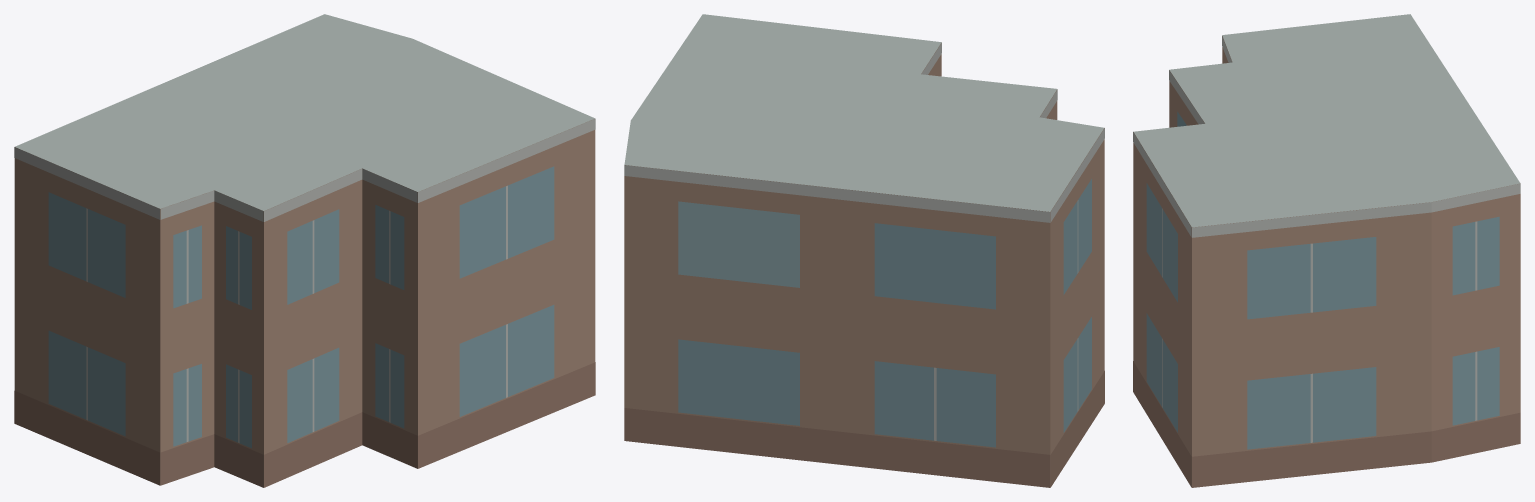
The model's file is survey-upis-32735699.glb.
3 renders of one model, left to right at view 1: azimuth 30°, elevation 25°; view 2: azimuth 150°, elevation 25°; view 3: azimuth 270°, elevation 25°, orthographic. The views are drawn at different scales.
Parts seen in each view (by area): view 1: survey-upis-32735699.tmp; view 2: survey-upis-32735699.tmp; view 3: survey-upis-32735699.tmp.
Boxes of the visible parts, bbox=[...] form: survey-upis-32735699.tmp: bbox=[14, 14, 595, 487]; survey-upis-32735699.tmp: bbox=[624, 14, 1104, 487]; survey-upis-32735699.tmp: bbox=[1133, 14, 1520, 487].
Bounding box in the file's own units: 10.73 × 6.1 × 8.23.
